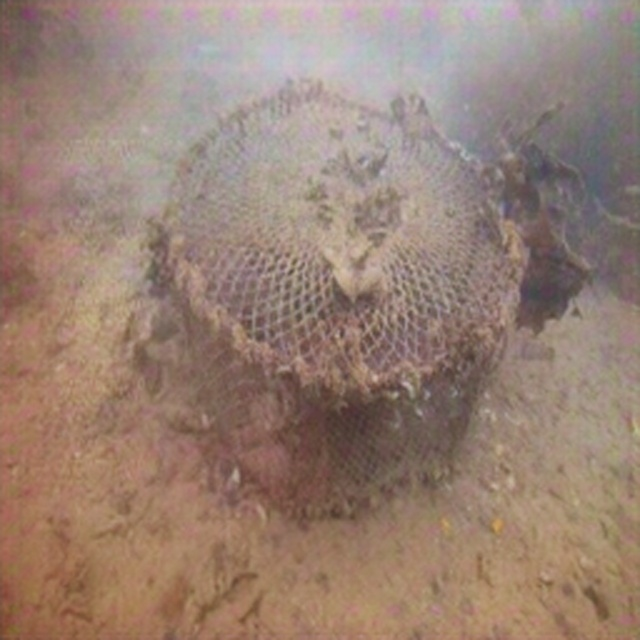mine: (161, 79, 521, 522)
